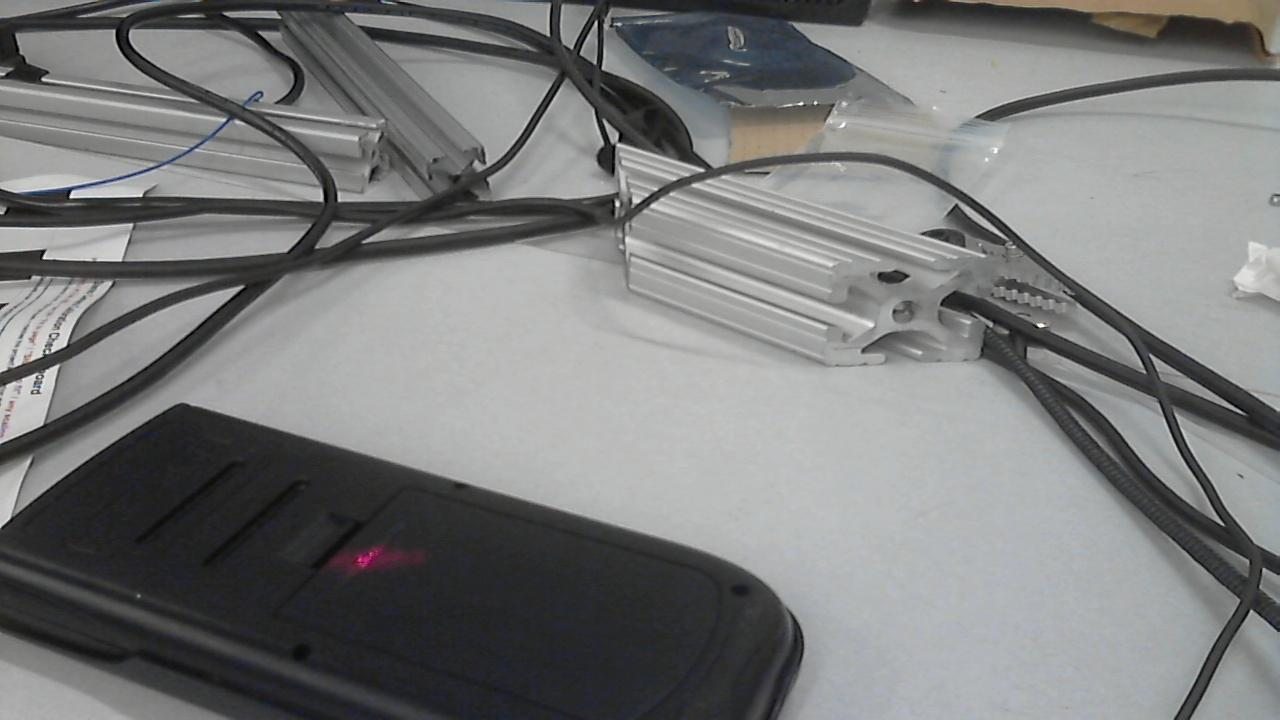Object graphing calculator slide case - Material plastic - Pdfname as1D2765rACT: (293, 526, 439, 588)
